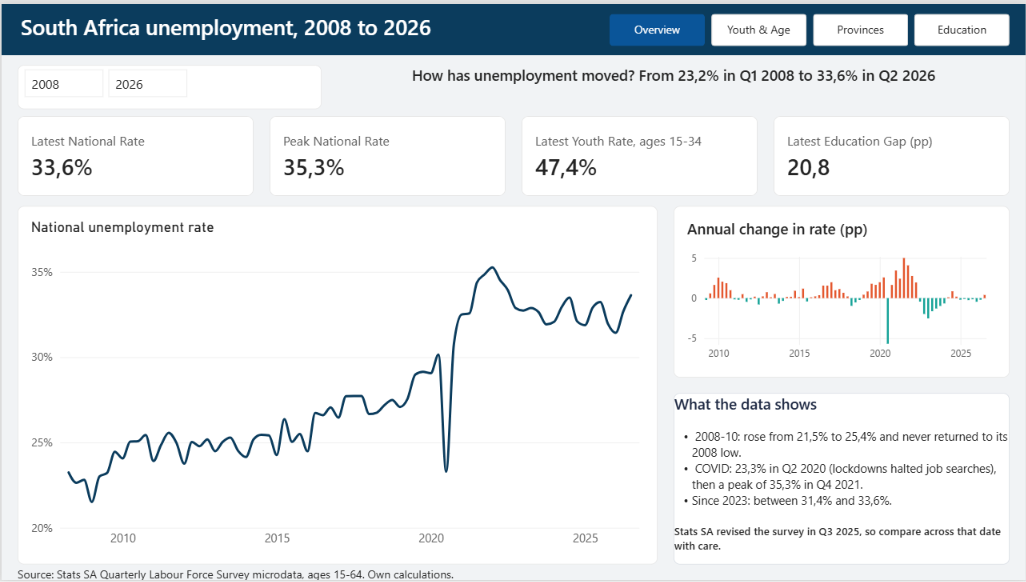

This screenshot's page, from the dashboard's own definition file:
{"tool":"powerbi","page":{"name":"Overview","canvas":[1280,720],"ordinal":0},"visuals":[{"type":"shape","box":[0,0,1280,64],"z":0},{"type":"pageNavigator","box":[760,12,500,40],"z":1000},{"type":"slicer","fields":{"Values":["Dim_Date.year"]},"box":[20,76,380,55],"z":2000},{"type":"textbox","box":[24,10,720,44],"z":3000},{"type":"textbox","box":[420,76,840,48],"z":4000},{"type":"cardVisual","fields":{"Data":["_Measures.Latest National Rate"]},"box":[20,140,295,100],"z":5000},{"type":"cardVisual","fields":{"Data":["_Measures.Peak National Rate"]},"box":[335,140,295,100],"z":6000},{"type":"cardVisual","fields":{"Data":["_Measures.Latest Youth Rate 15-34"]},"box":[650,140,295,100],"z":7000},{"type":"cardVisual","fields":{"Data":["_Measures.Latest Education Gap"]},"box":[965,140,295,100],"z":8000},{"type":"lineChart","title":"National unemployment rate","fields":{"Y":["_Measures.National Rate"],"Category":["Dim_Date.quarter_end"]},"box":[20,252,800,448],"z":9000},{"type":"lineClusteredColumnComboChart","title":"Annual change in rate (pp)","fields":{"Y":["_Measures.National Rate YoY Change"],"Category":["Dim_Date.quarter_end"]},"box":[840,252,420,214],"z":10000},{"type":"textbox","box":[840,486,420,214],"z":11000},{"type":"textbox","box":[20,702,1240,18],"z":12000}]}

Visuals, with their boxes in screenshot pixels (x1, y1, x2, y2), scaled from the page's 1280x720 canvas onto the 1026x582 screenshot:
shape: (0,0,1025,52)
pageNavigator: (609,10,1010,42)
slicer - Dim_Date.year: (16,61,321,106)
textbox: (19,8,596,44)
textbox: (337,61,1010,100)
cardVisual - _Measures.Latest National Rate: (16,113,252,194)
cardVisual - _Measures.Peak National Rate: (269,113,505,194)
cardVisual - _Measures.Latest Youth Rate 15-34: (521,113,757,194)
cardVisual - _Measures.Latest Education Gap: (774,113,1010,194)
"National unemployment rate" lineChart: (16,204,657,566)
"Annual change in rate (pp)" lineClusteredColumnComboChart: (673,204,1010,377)
textbox: (673,393,1010,566)
textbox: (16,567,1010,581)
